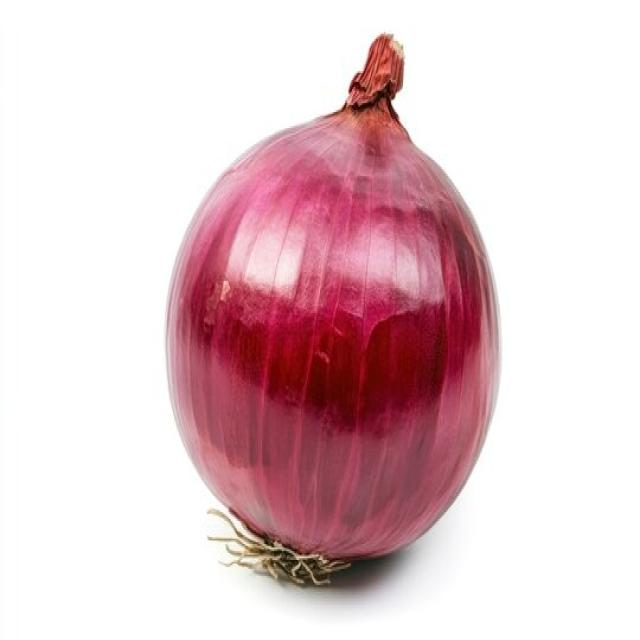Onion: (163, 30, 502, 587)
